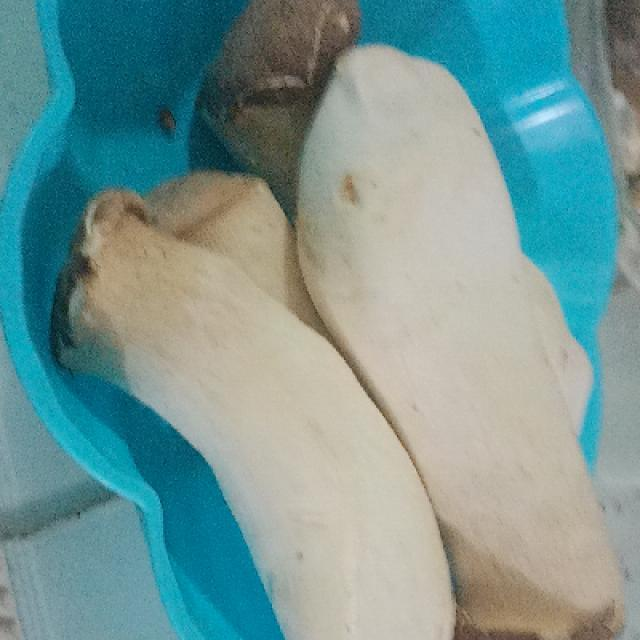Pleurotus eryngii: (50, 0, 624, 640)
